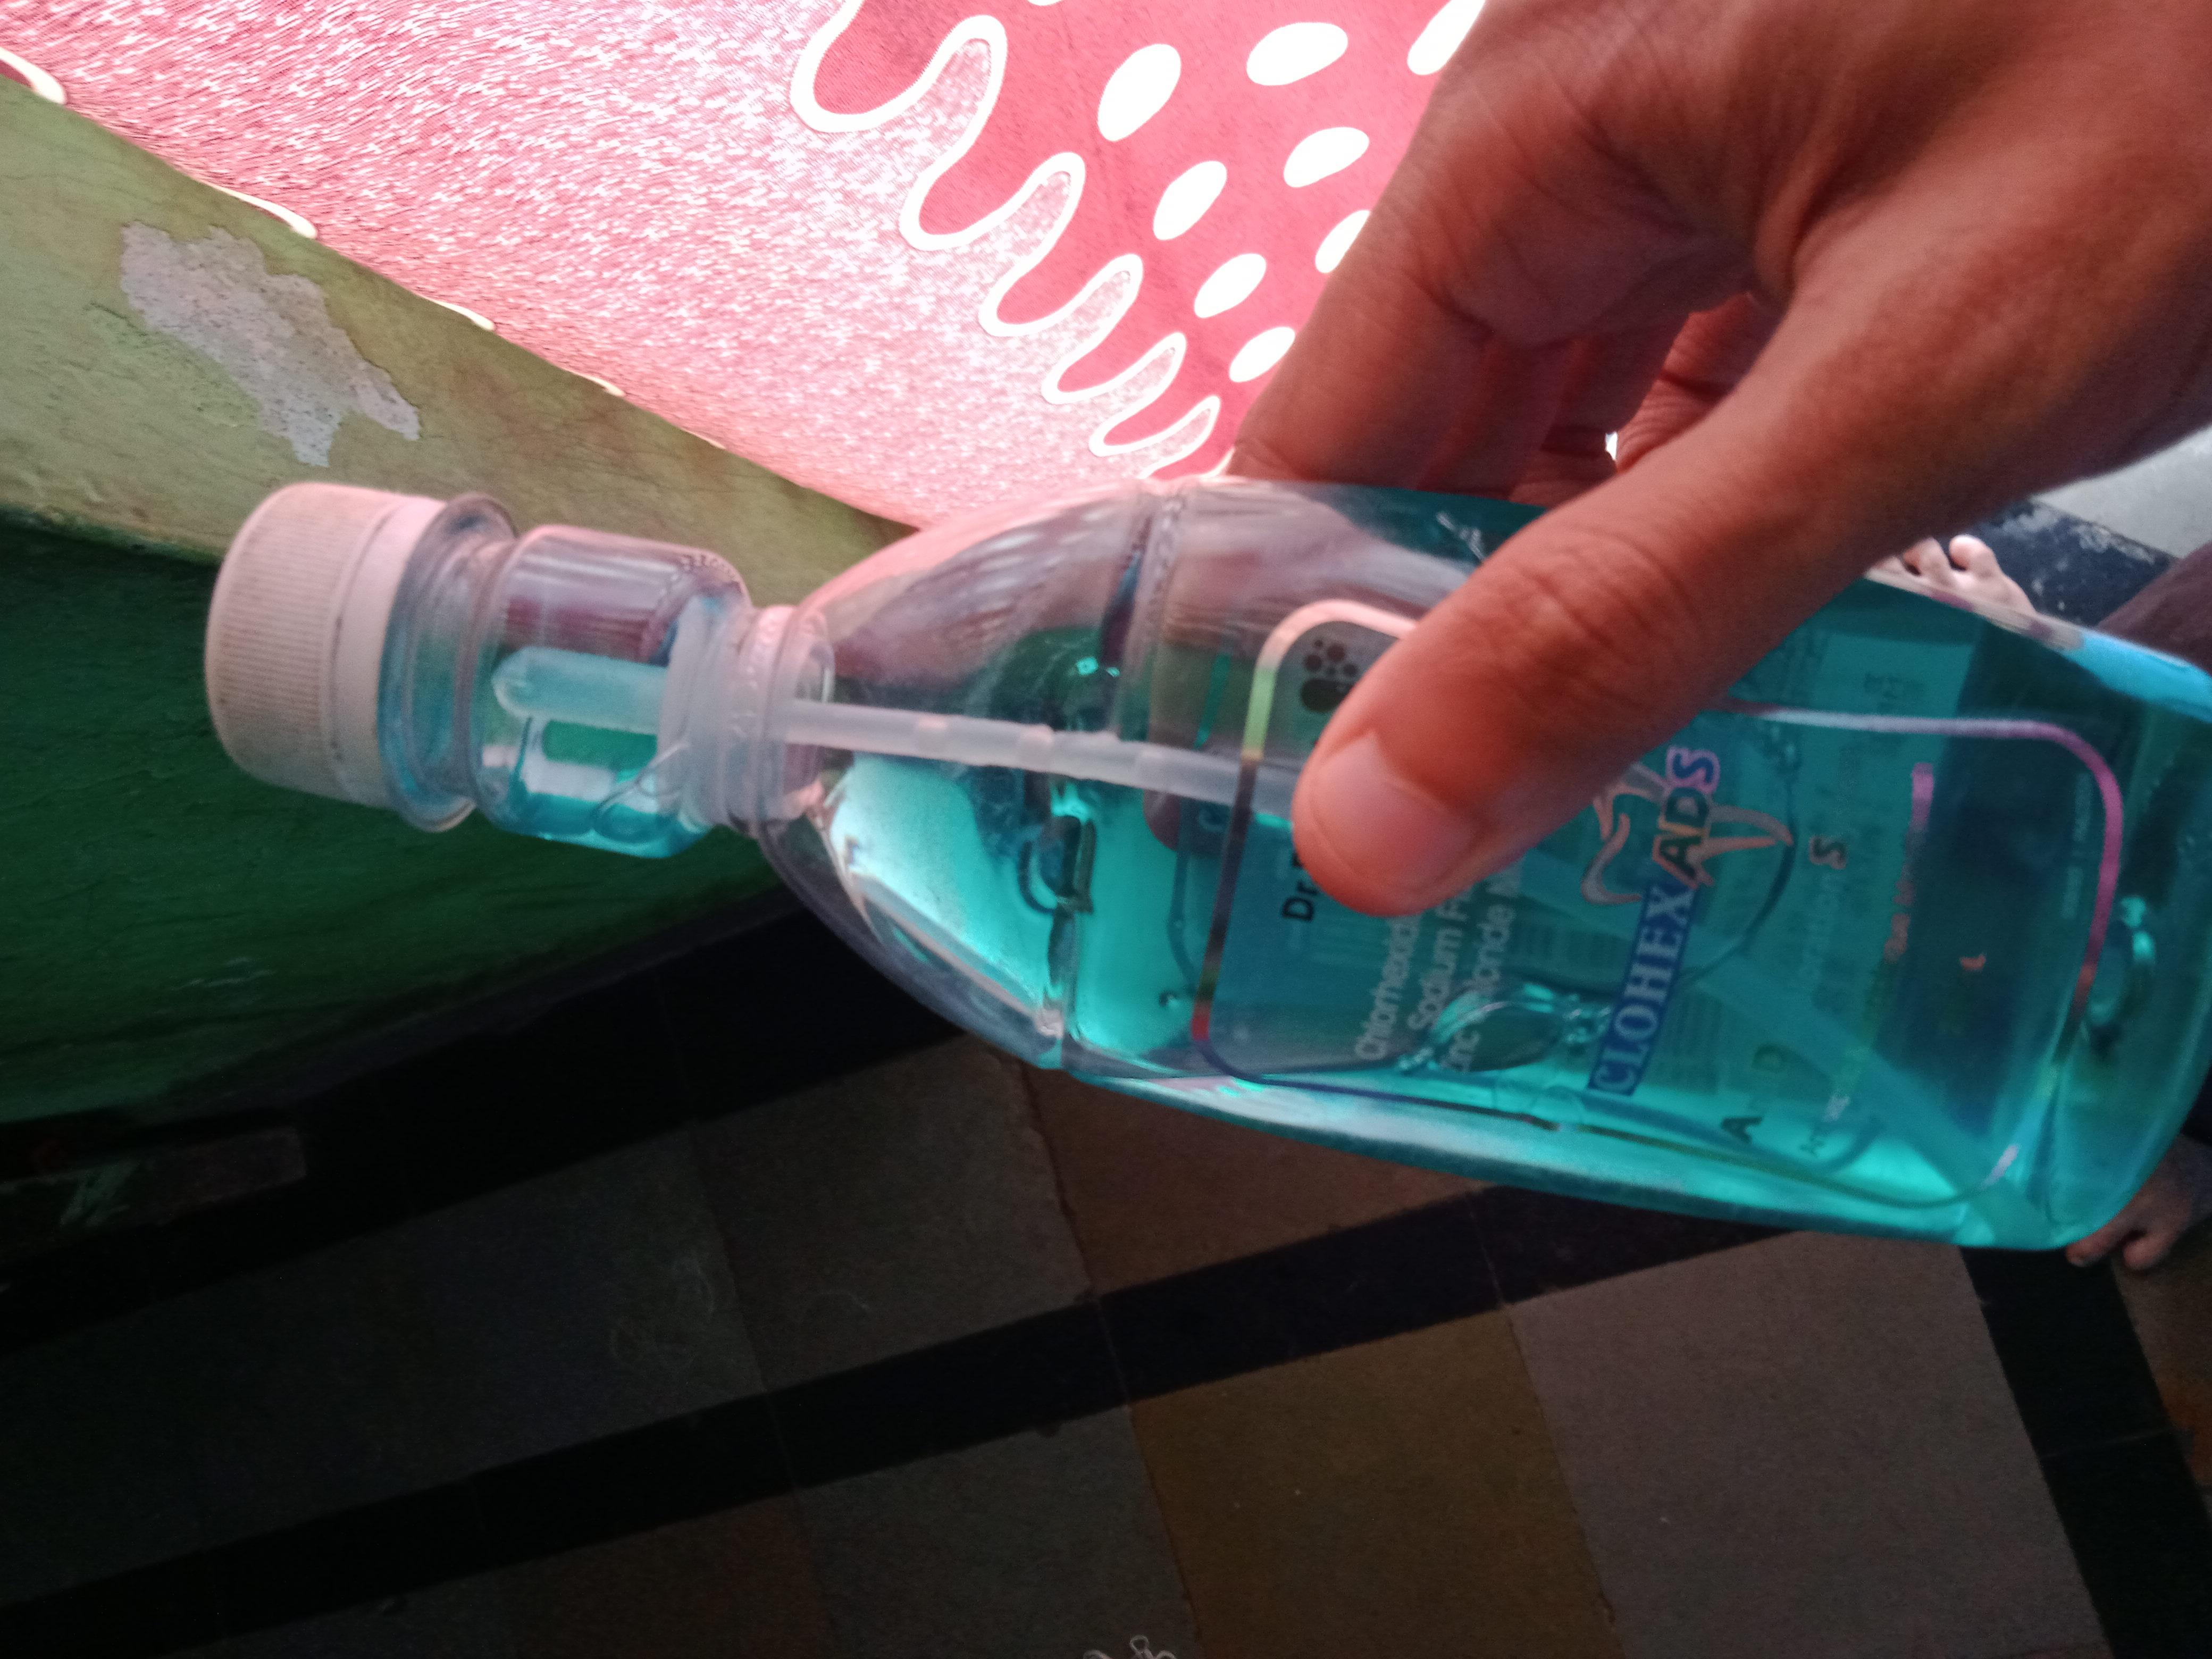bottle: (538, 85, 1611, 1659)
